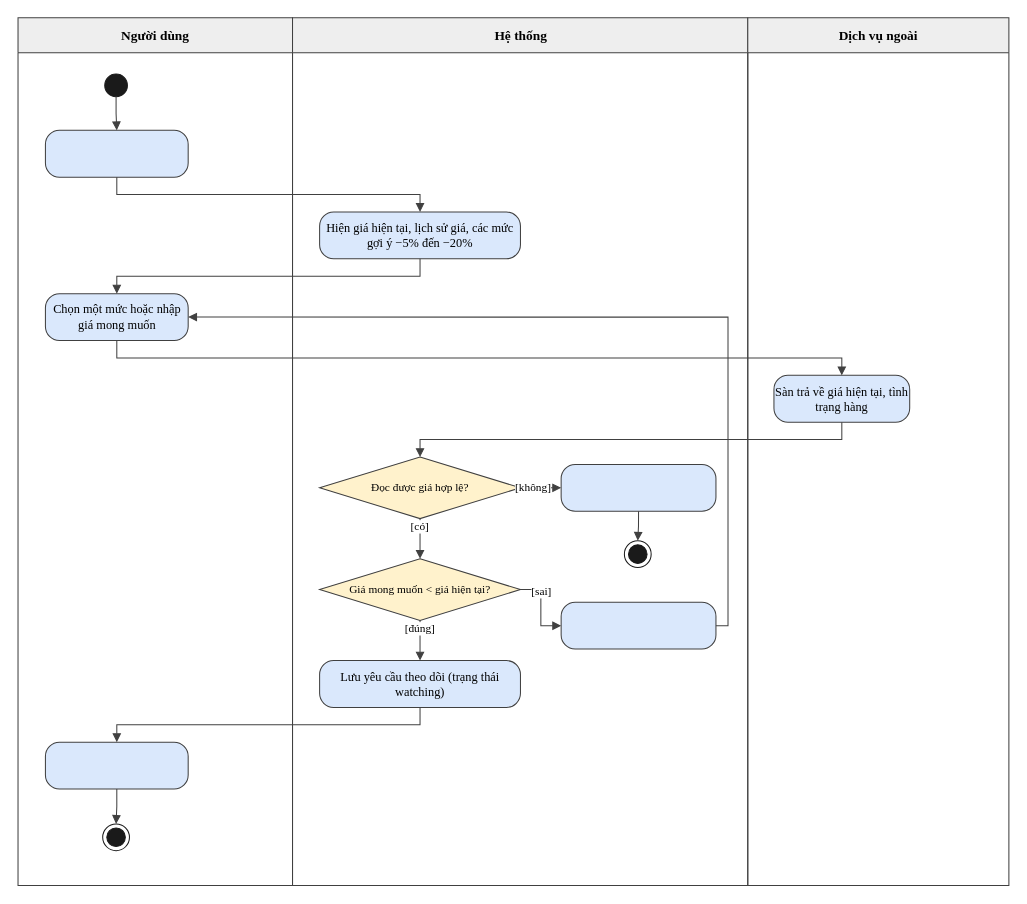
Image size: 1027x904. Some labels were removed from this diagram. Here are the shapes that lost their labels. From the top down, the centre of each, then its label:
point (116, 153): Bấm “Theo dõi giá” trên thẻ sản phẩm
point (638, 487): Báo chưa đọc được giá hiện tại
point (638, 625): Báo “Giá mong muốn phải thấp hơn giá hiện tại”
point (116, 765): Xem yêu cầu trong màn Theo dõi giá
